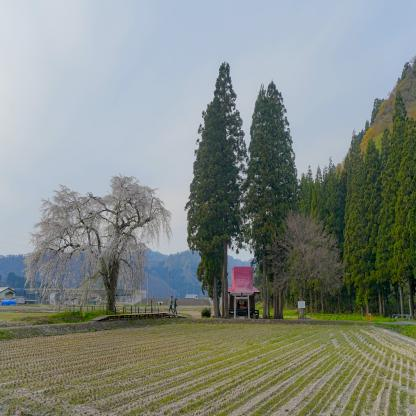ShidareZakura: (23, 174, 172, 315)
